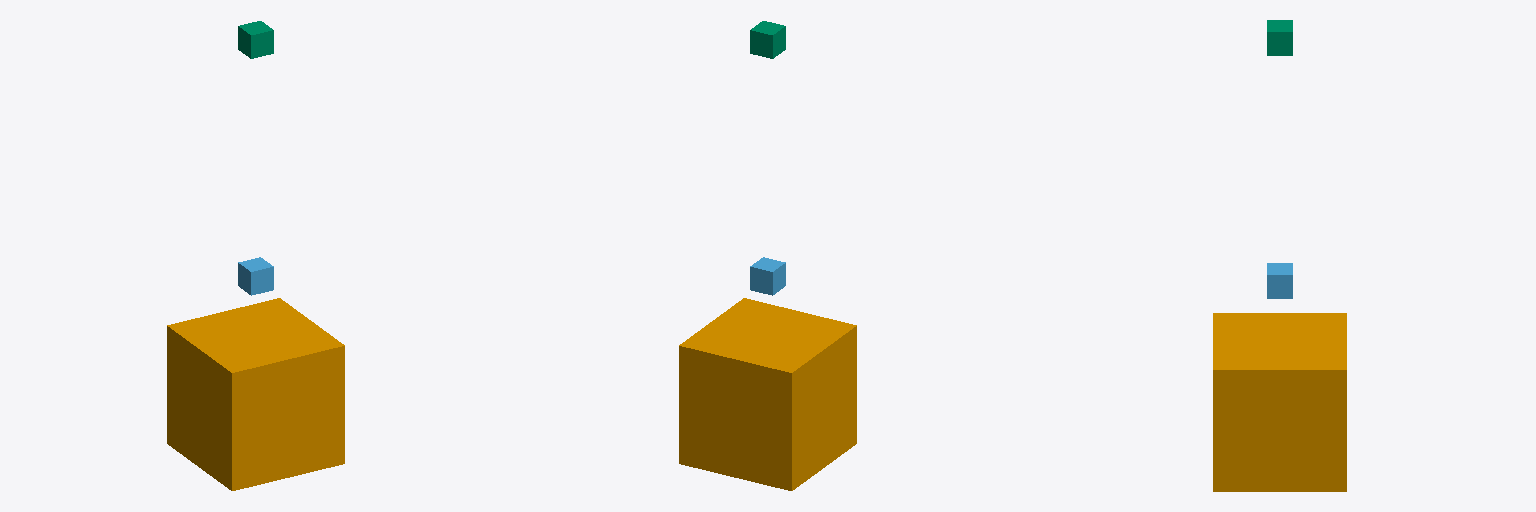
URDF robot description (visual_only_chain):
<?xml version="1.0"?>
<robot name="visual_only_chain">
  <link name="base">
    <inertial>
      <mass value="1"/>
      <inertia ixx="0.01" iyy="0.01" izz="0.01" ixy="0" ixz="0" iyz="0"/>
    </inertial>
    <visual>
      <geometry>
        <box size="0.1 0.1 0.1"/>
      </geometry>
    </visual>
  </link>
  <link name="drawn">
    <visual>
      <geometry>
        <box size="0.02 0.02 0.02"/>
      </geometry>
    </visual>
  </link>
  <link name="link_box">
    <inertial>
      <mass value="1"/>
      <inertia ixx="0.01" iyy="0.01" izz="0.01" ixy="0" ixz="0" iyz="0"/>
    </inertial>
    <visual>
      <geometry>
        <box size="0.02 0.02 0.02"/>
      </geometry>
    </visual>
  </link>

  <joint name="drawn_joint" type="fixed">
    <origin xyz="0 0 0.1"/>
    <parent link="base"/>
    <child link="drawn"/>
  </joint>
  <joint name="box_joint" type="revolute">
    <origin xyz="0 0 0.2"/>
    <parent link="drawn"/>
    <child link="link_box"/>
    <axis xyz="0 0 1"/>
  </joint>
</robot>

--- Facts derived from the render (not from the file) ---
The picture shows the robot from 3 angles, left to right: view 1: azimuth 30°, elevation 25°; view 2: azimuth 150°, elevation 25°; view 3: azimuth 270°, elevation 25°; orthographic projection.
Model visual_only_chain with 3 links and 2 joints (1 revolute, 1 fixed), rooted at base, posed every joint at zero.
Links seen in each view (by area): view 1: base, link_box, drawn; view 2: base, link_box, drawn; view 3: base, drawn, link_box.
Link boxes in pixels (box(x1,y1,x2,y2)): base: box(167, 298, 344, 490); link_box: box(238, 21, 273, 58); drawn: box(238, 257, 273, 295); base: box(679, 298, 856, 490); link_box: box(750, 21, 785, 58); drawn: box(750, 257, 785, 295); base: box(1213, 313, 1346, 491); drawn: box(1267, 263, 1292, 298); link_box: box(1267, 20, 1292, 55).
Size in the robot's own frame: 0.1 by 0.1 by 0.36 metres.
Geometry: primitives only (box / cylinder / sphere), no mesh files.
